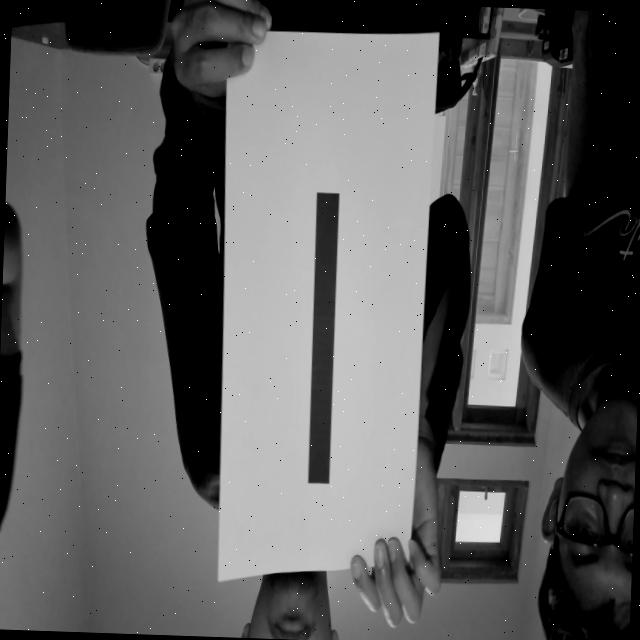i: (284, 169, 350, 499)
